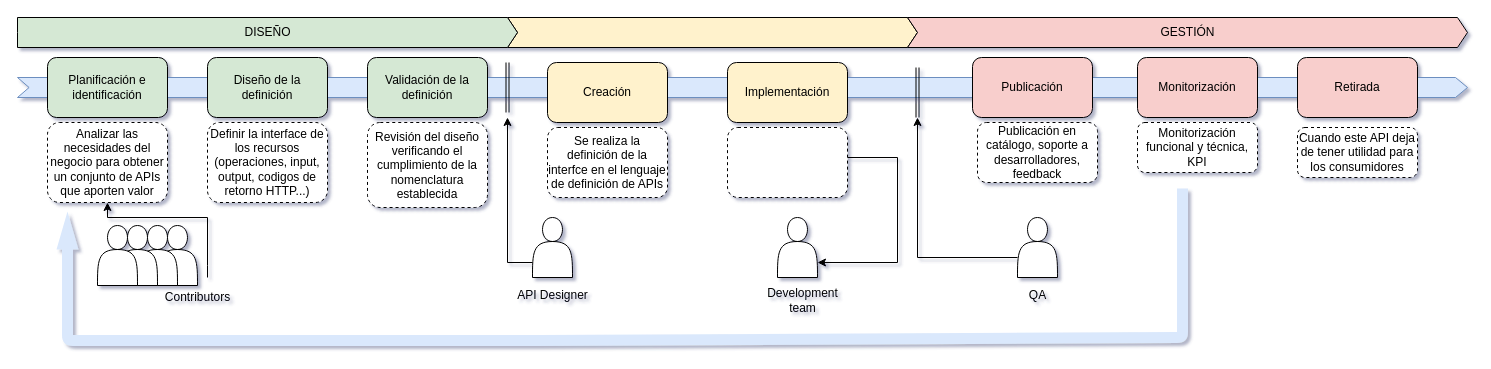
This 1491x369 diagram has some shape labels left out. Here are the shapes that lost their labels. From the top down, the centre of each, then its label:
[712,32]: DESARROLLO
[787,162]: Desarrollo de la lógica de negocio, partiendo de la definición del API
